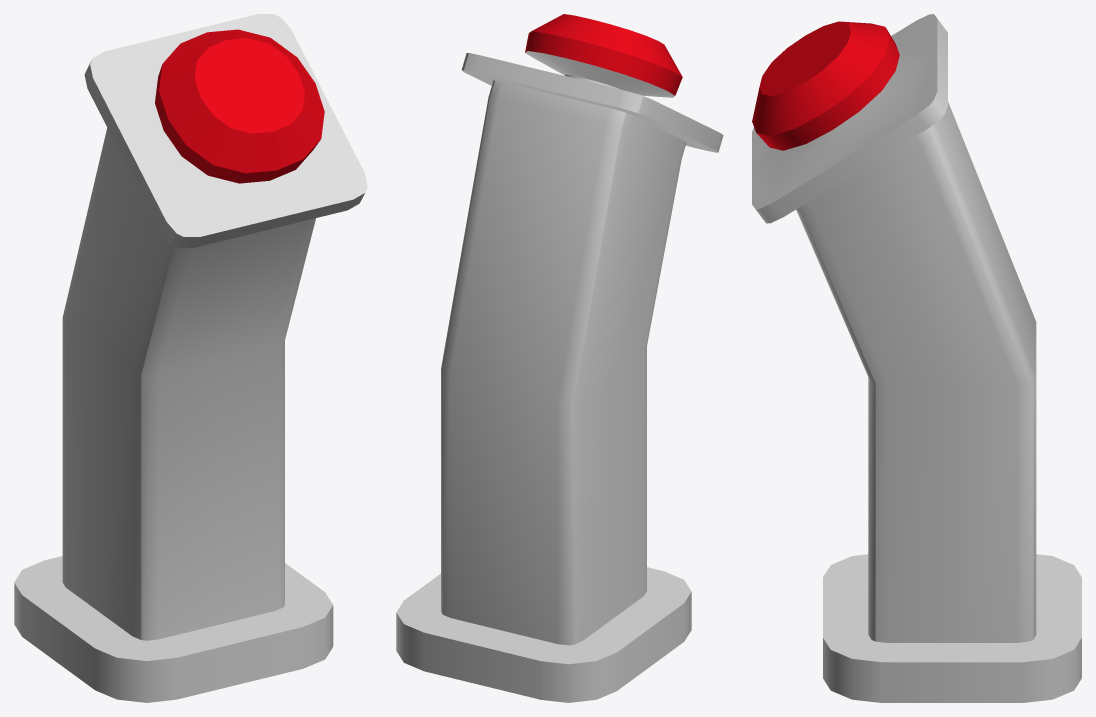
File: Button_stand.fbx
3 views of the same model, side by side, from view 1: azimuth 30°, elevation 25°; view 2: azimuth 150°, elevation 25°; view 3: azimuth 270°, elevation 25° (orthographic). The views are drawn at different scales.
Visible parts, largest first — view 1: Button_stand; view 2: Button_stand; view 3: Button_stand.
Part boxes in pixels (x1=…): Button_stand: x1=14, y1=14, x2=367, y2=702; Button_stand: x1=396, y1=14, x2=723, y2=702; Button_stand: x1=752, y1=14, x2=1081, y2=702.
Bounding box in the file's own units: 2 × 5.26 × 2.55.
